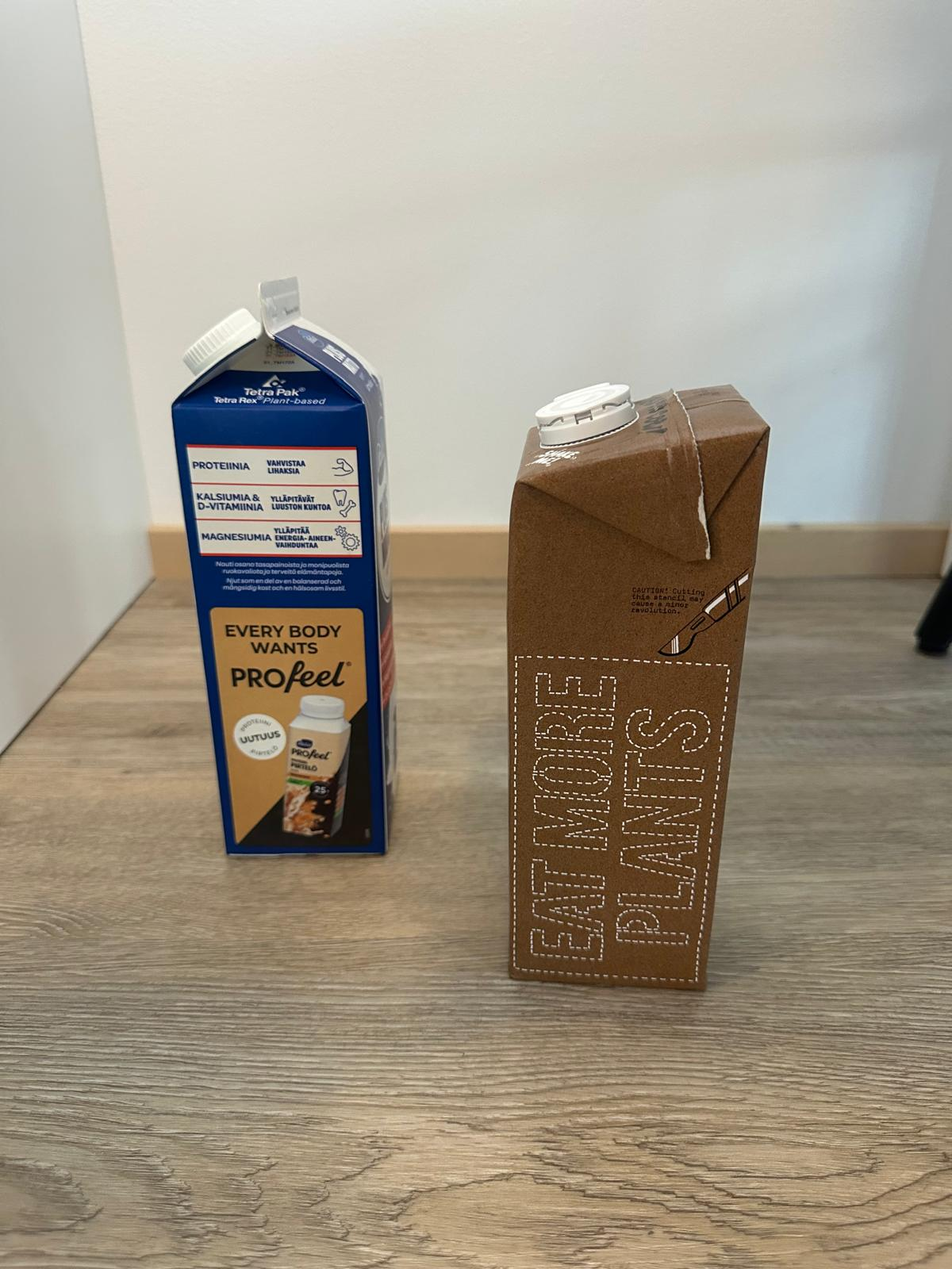Dryckeskartong: (506, 380, 771, 992), (171, 273, 399, 857)
